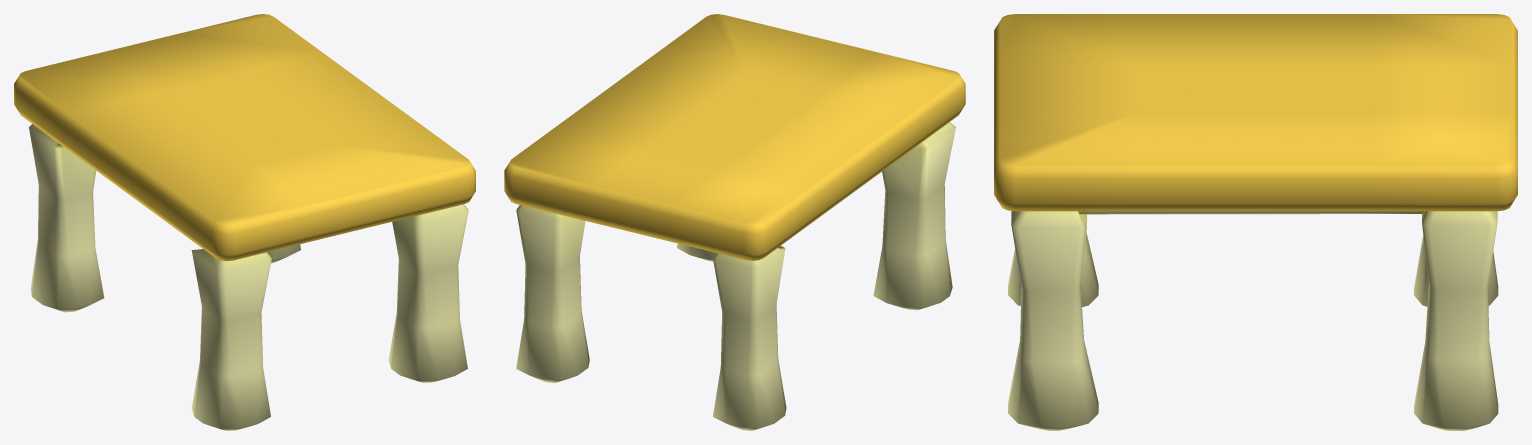
Rendered from table test.fbx.
The picture shows the model from 3 angles, left to right: view 1: azimuth 30°, elevation 25°; view 2: azimuth 150°, elevation 25°; view 3: azimuth 270°, elevation 25°; orthographic projection. The views are drawn at different scales.
Parts seen in each view (by area): view 1: Plane.002, Plane.001, Plane; view 2: Plane.002, Plane.001, Plane; view 3: Plane.002, Plane, Plane.001.
Part boxes in pixels (x1,y1,x2,y2): Plane.002: [14, 14, 475, 261]; Plane.001: [29, 124, 271, 430]; Plane: [267, 204, 468, 382]; Plane.002: [504, 14, 965, 260]; Plane.001: [713, 122, 955, 430]; Plane: [516, 205, 715, 382]; Plane.002: [994, 14, 1517, 211]; Plane: [1008, 211, 1498, 430]; Plane.001: [1008, 233, 1498, 306].
Size of the model in its own units: 325 by 262 by 453.
2 materials, 2 textured.
